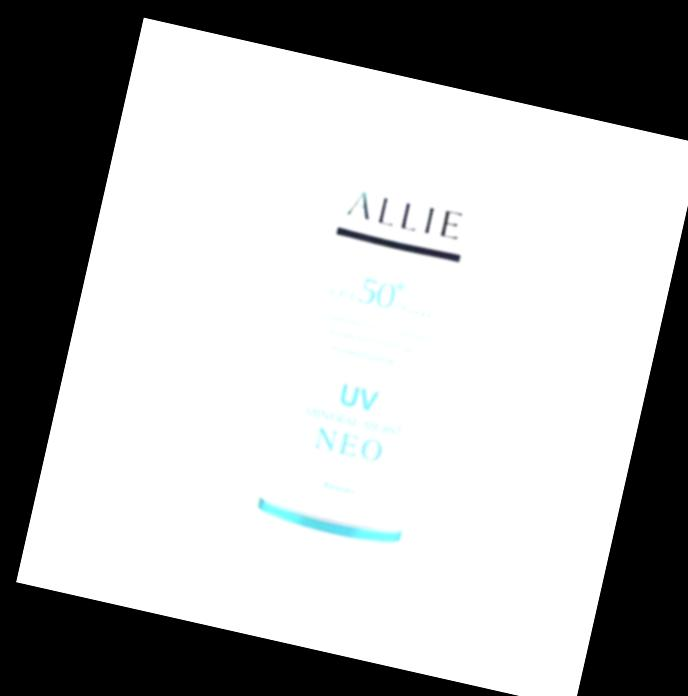cosmetic: (208, 91, 523, 633)
